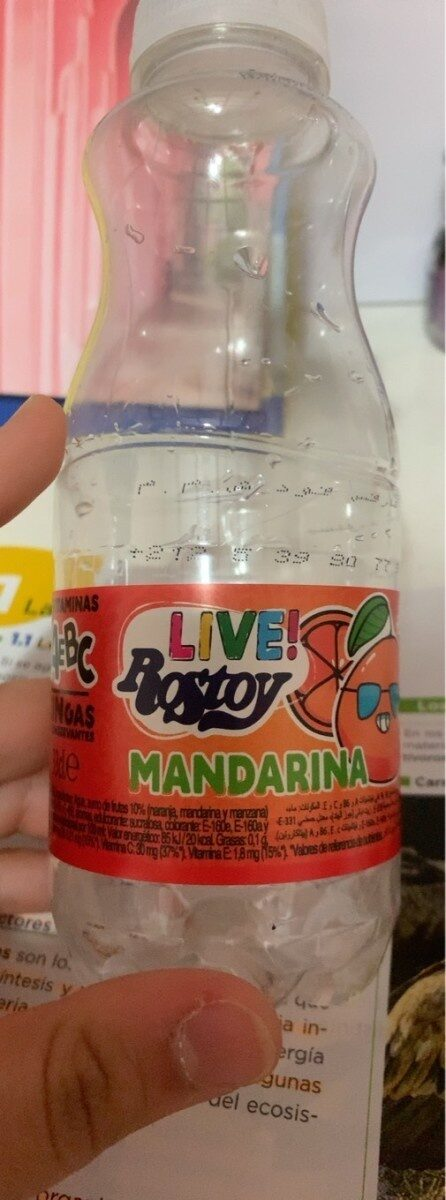Live Rostoy: (22, 60, 424, 1140)
